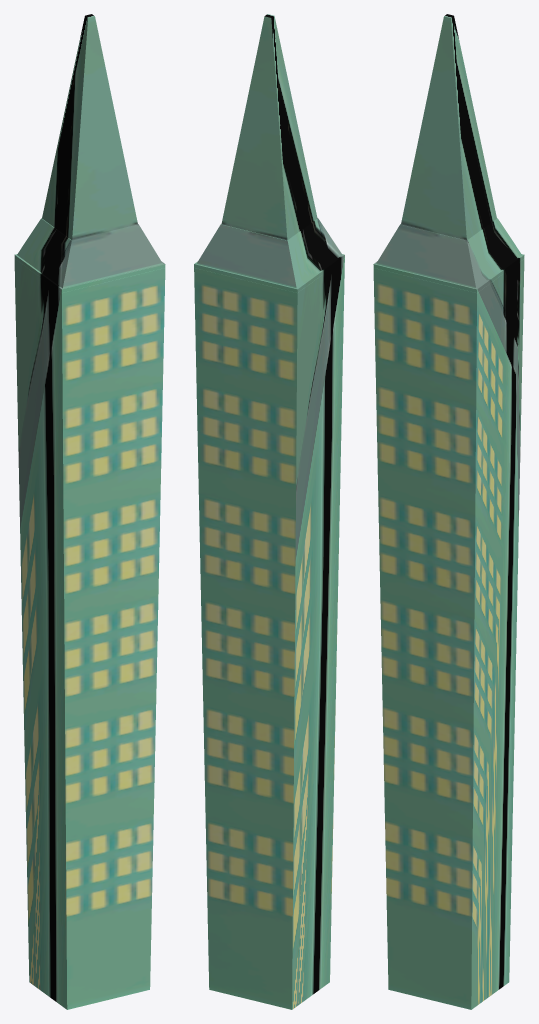
The model's file is House6.glb.
3 views of the same model, side by side, from view 1: azimuth 30°, elevation 25°; view 2: azimuth 150°, elevation 25°; view 3: azimuth 330°, elevation 25° (orthographic).
Visible parts, largest first — view 1: House6; view 2: House6; view 3: House6.
Boxes of the visible parts, left/top/right/bottom form: House6: left=14, top=14, right=165, bottom=1009; House6: left=194, top=14, right=344, bottom=1009; House6: left=373, top=14, right=524, bottom=1009.
Size of the model in its own units: 110 by 982 by 86.92.
1 material, 1 textured.
